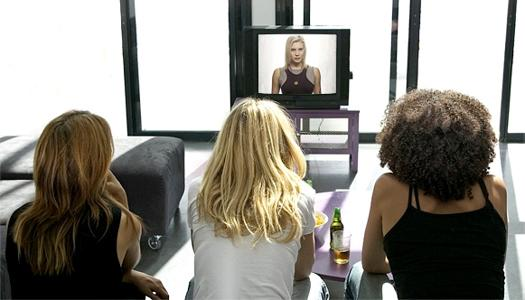person: (188, 98, 328, 300)
